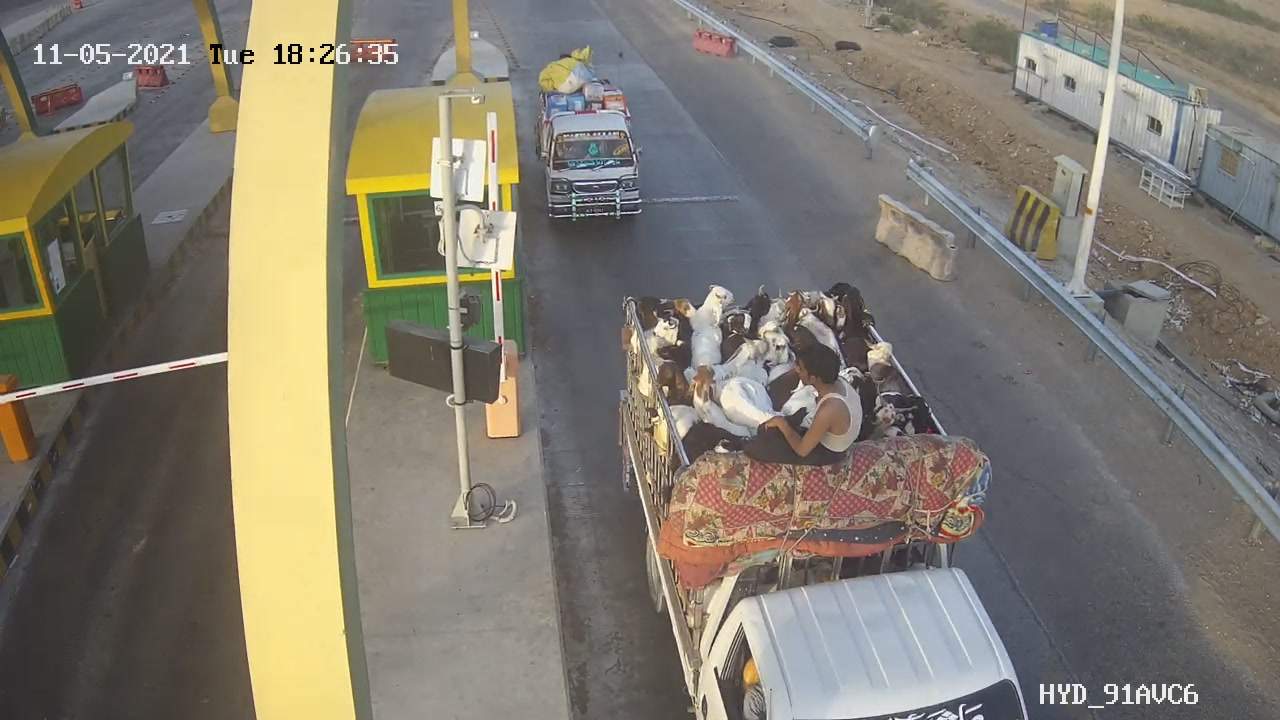F1: (532, 80, 649, 228)
